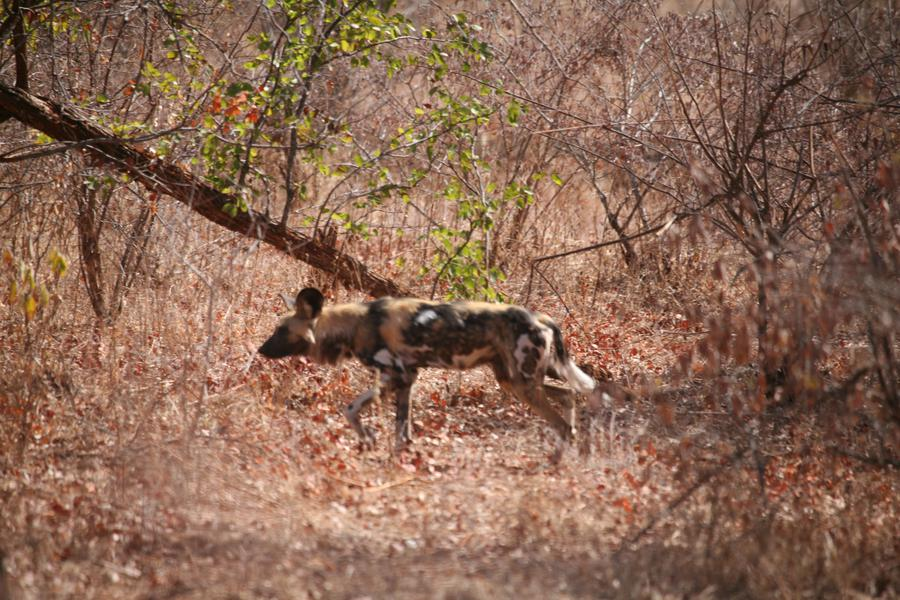wilddog: (266, 280, 578, 439)
